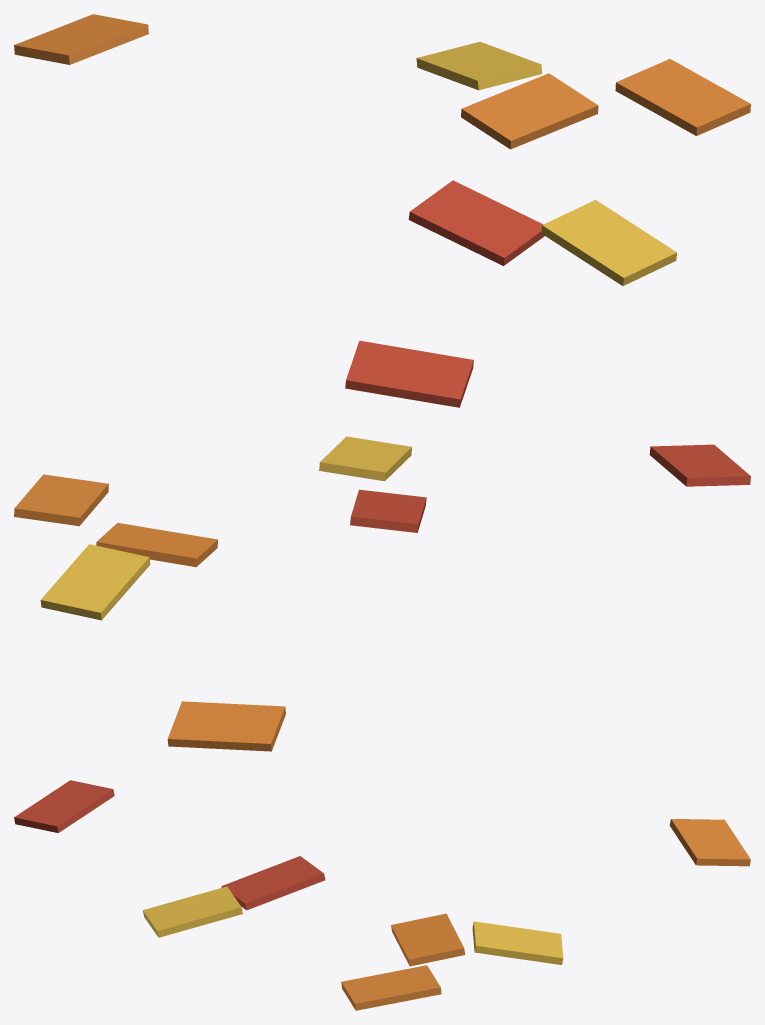
The model's file is stage1_deco_leaves.glb.
3 views of the same model, one above another, from view 1: azimuth 30°, elevation 25°; view 2: azimuth 150°, elevation 25°; view 3: azimuth 270°, elevation 25° (orthographic). The views are drawn at different scales.
Visible parts, largest first — view 1: stage1_deco_leaves_leafOrange, stage1_deco_leaves_leafRed, stage1_deco_leaves_leafYellow; view 2: stage1_deco_leaves_leafOrange, stage1_deco_leaves_leafYellow, stage1_deco_leaves_leafRed; view 3: stage1_deco_leaves_leafOrange, stage1_deco_leaves_leafYellow, stage1_deco_leaves_leafRed.
Part boxes in pixels (left/top/right/bottom): stage1_deco_leaves_leafOrange: left=14, top=14, right=750, bottom=149; stage1_deco_leaves_leafRed: left=345, top=180, right=544, bottom=407; stage1_deco_leaves_leafYellow: left=416, top=41, right=676, bottom=285; stage1_deco_leaves_leafOrange: left=14, top=474, right=285, bottom=751; stage1_deco_leaves_leafYellow: left=40, top=436, right=412, bottom=620; stage1_deco_leaves_leafRed: left=350, top=444, right=750, bottom=532; stage1_deco_leaves_leafOrange: left=341, top=819, right=750, bottom=1010; stage1_deco_leaves_leafYellow: left=143, top=886, right=563, bottom=964; stage1_deco_leaves_leafRed: left=14, top=780, right=325, bottom=910.
Bounding box in the file's own units: 0.4096 × 0.0221 × 0.5806.
